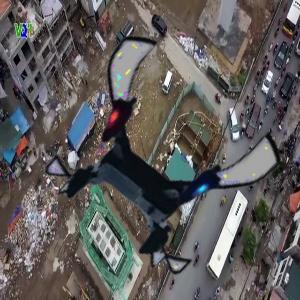drone: (55, 51, 261, 257)
